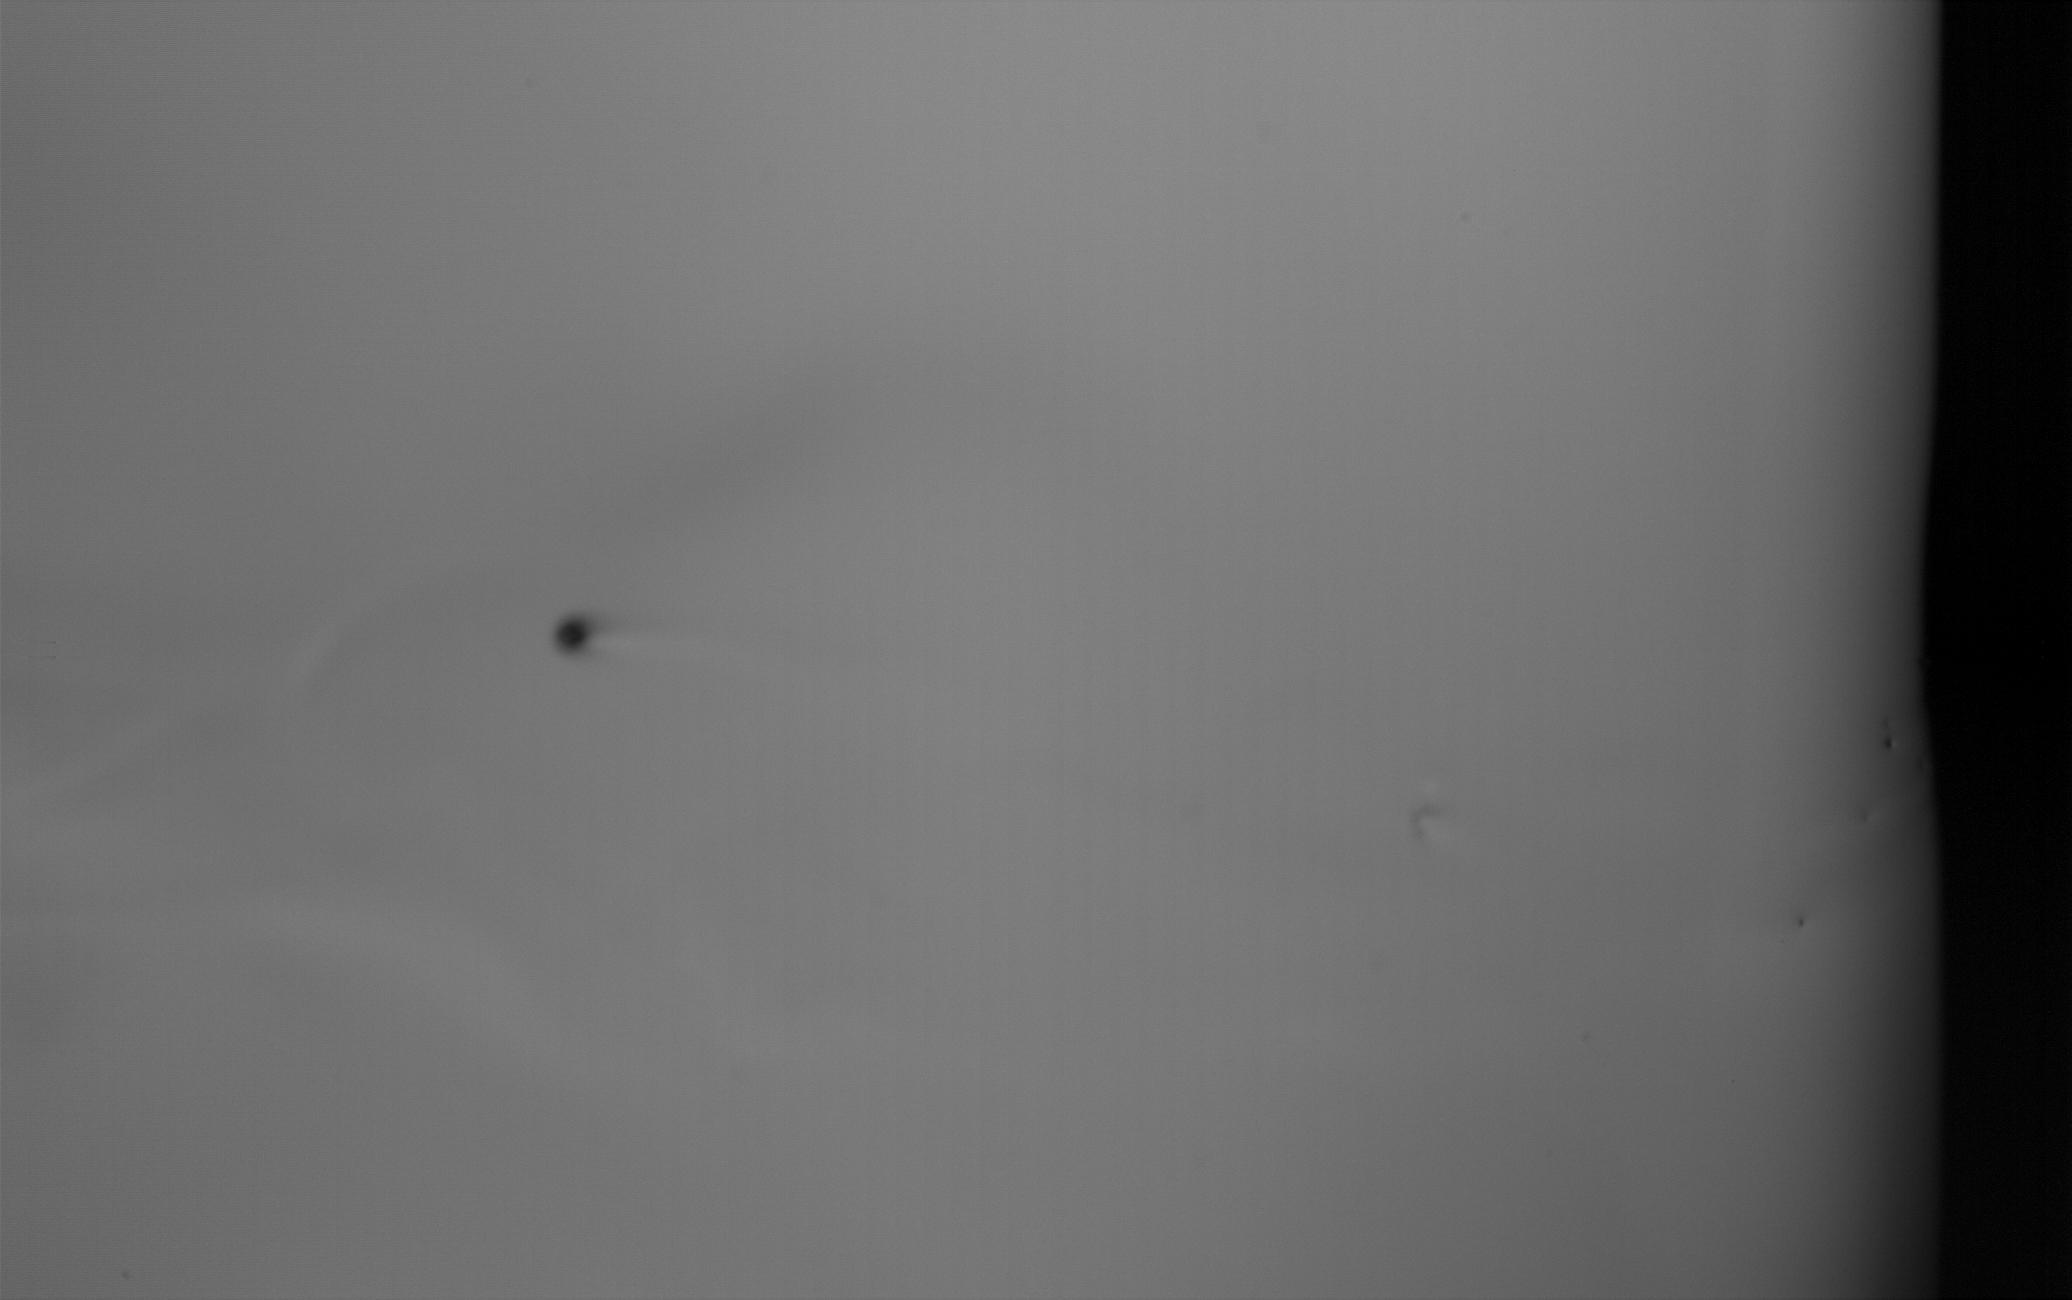ClassicalEvaporation: (549, 611, 593, 656)
